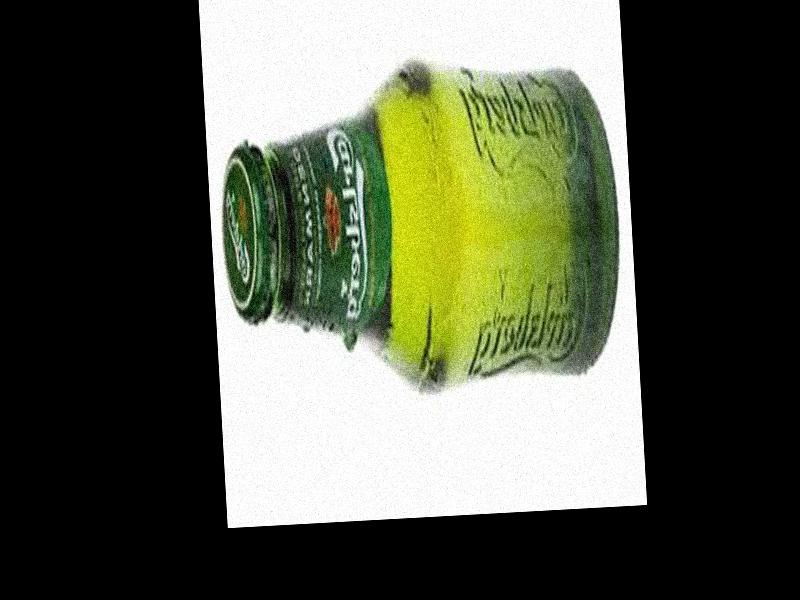Beer: (214, 58, 628, 401)
